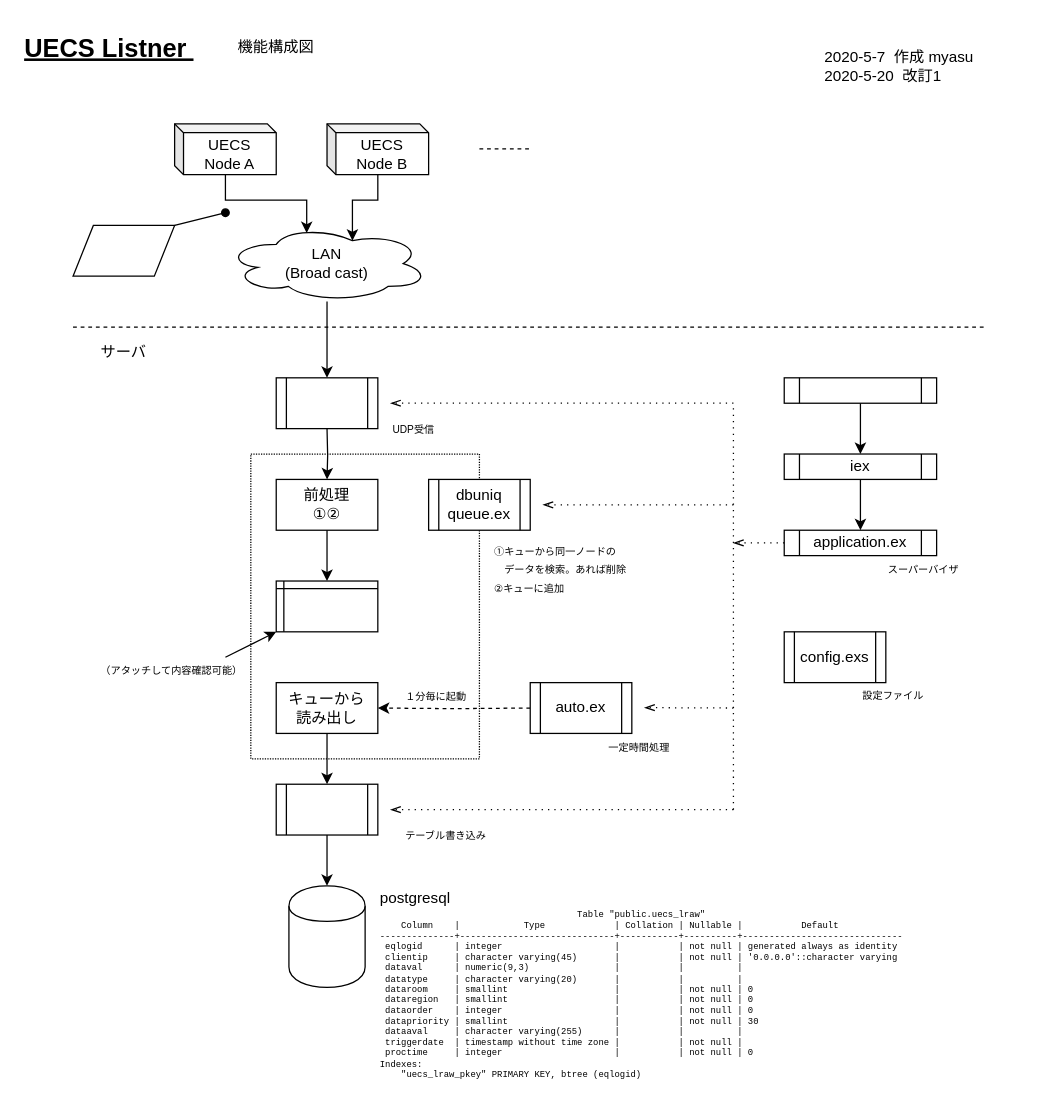
Image size: 1059x1113. Some labels were removed from this diagram. Each missing label, with the centre of its shape:
"dbuecs.ex" goes at pixel 326 809.
"systemd" goes at pixel 860 390.
"udp.ex" goes at pixel 326 403.
"UECS Data (XML)" goes at pixel 123 250.
"キュー" goes at pixel 326 606.
